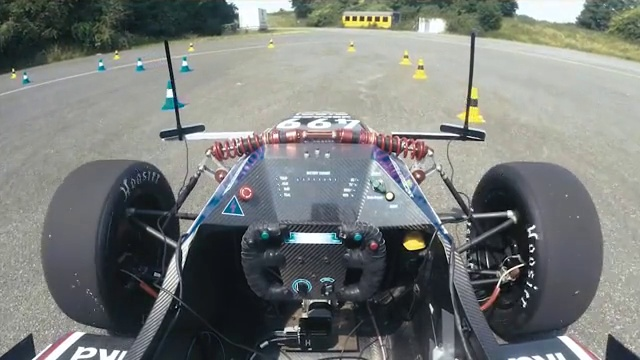Cone: (456, 87, 489, 122), (162, 79, 186, 112), (413, 57, 430, 80)
